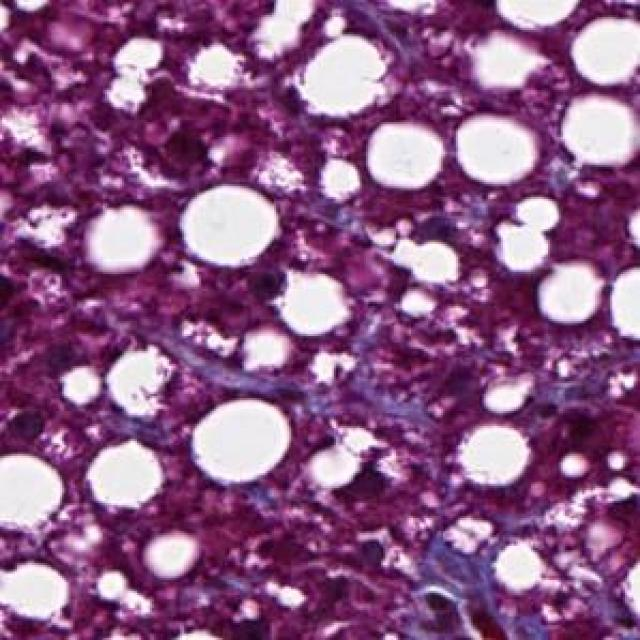steatosis: (192, 392, 286, 494), (299, 36, 392, 120), (184, 182, 274, 263), (488, 186, 563, 276), (2, 437, 62, 548), (460, 100, 535, 188), (79, 199, 163, 274), (0, 546, 75, 627), (364, 118, 445, 190), (81, 443, 165, 512), (278, 268, 358, 340), (454, 417, 533, 488), (558, 96, 634, 167), (385, 227, 467, 289), (573, 17, 640, 87), (535, 263, 602, 323), (497, 542, 548, 590), (148, 535, 199, 576)
